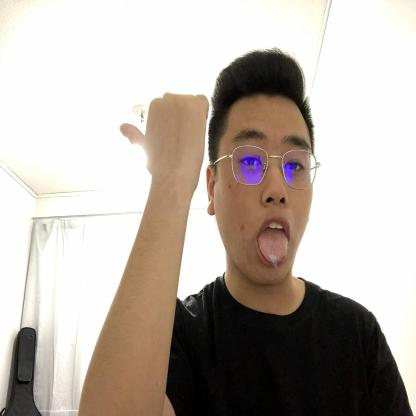right: (119, 88, 212, 192)
